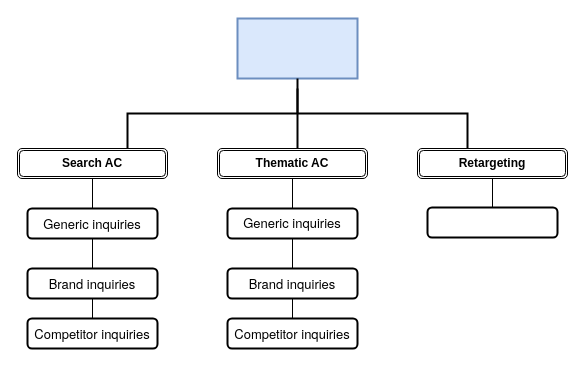
Some shapes in this 585 by 366 pixel diagram are drawn without their labels. The shapes that lost their labels are listed below. From the top down, each one's box as (x1, y1, x2, y2) in pixels, then its label:
(236, 17, 358, 79): Account
(426, 206, 558, 238): Generate scenarios
